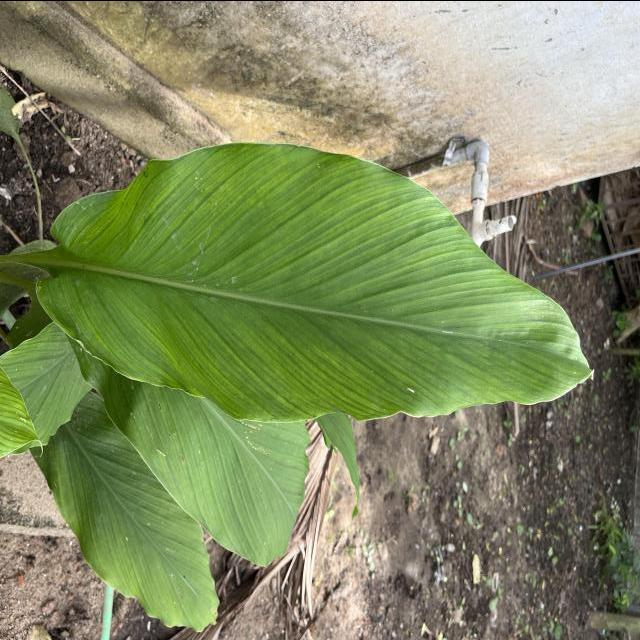Curcuma longa: (33, 139, 599, 428)
